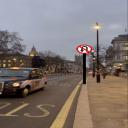NoVirarU: (76, 44, 94, 55)
